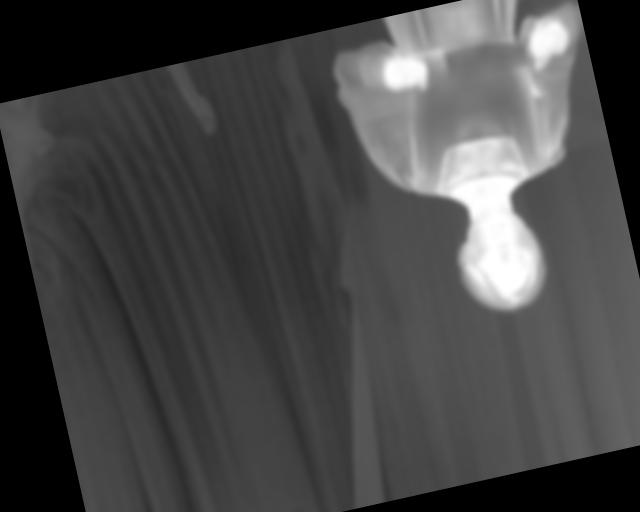face: (445, 200, 555, 322)
